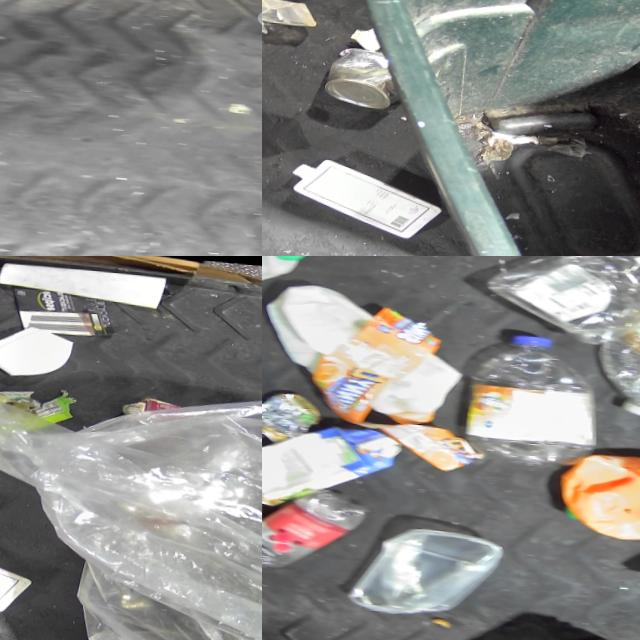can: (324, 42, 402, 108), (262, 384, 328, 444)
milk_jug: (262, 277, 461, 424), (0, 526, 34, 612)
non_white_jug: (549, 437, 640, 547)
plastic_bottle: (449, 324, 604, 465), (262, 480, 373, 583), (591, 285, 640, 422)
